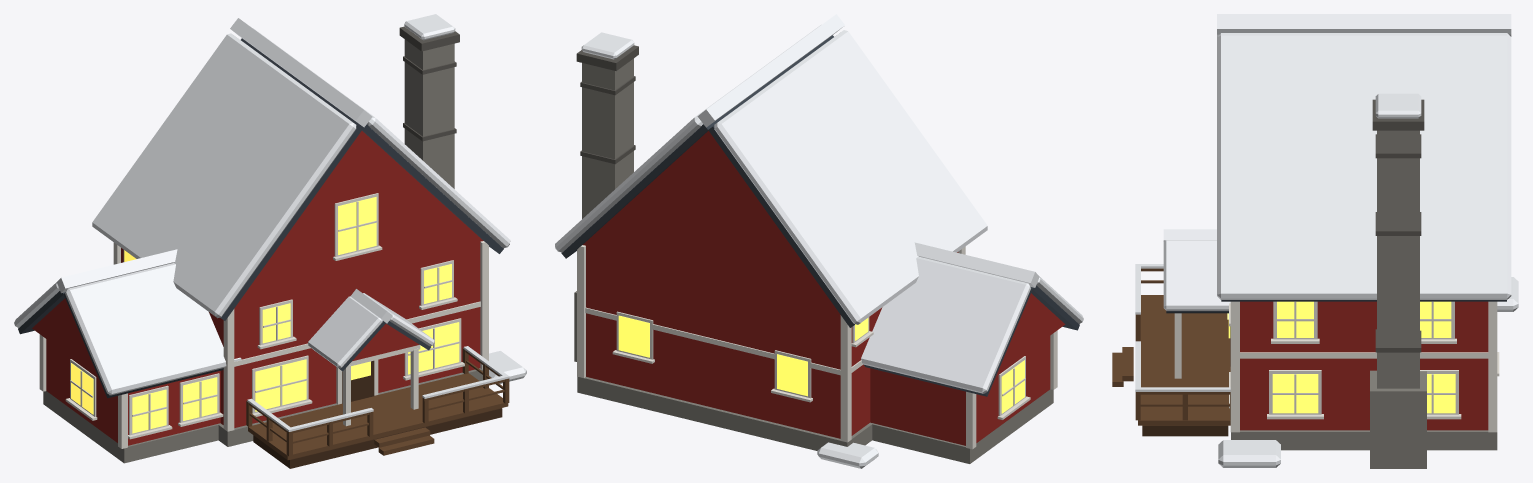
File: lodge-tier-1.glb
3 views of the same model, side by side, from view 1: azimuth 30°, elevation 25°; view 2: azimuth 150°, elevation 25°; view 3: azimuth 270°, elevation 25° (orthographic). The views are drawn at different scales.
Parts seen in each view (by area): view 1: lodge-tier-1; view 2: lodge-tier-1; view 3: lodge-tier-1.
Boxes of the visible parts, x1,y1,x2,y2 form: lodge-tier-1: [14, 14, 526, 468]; lodge-tier-1: [555, 14, 1083, 468]; lodge-tier-1: [1112, 14, 1518, 468].
Size of the model in its own units: 19.47 by 13.96 by 14.2.
